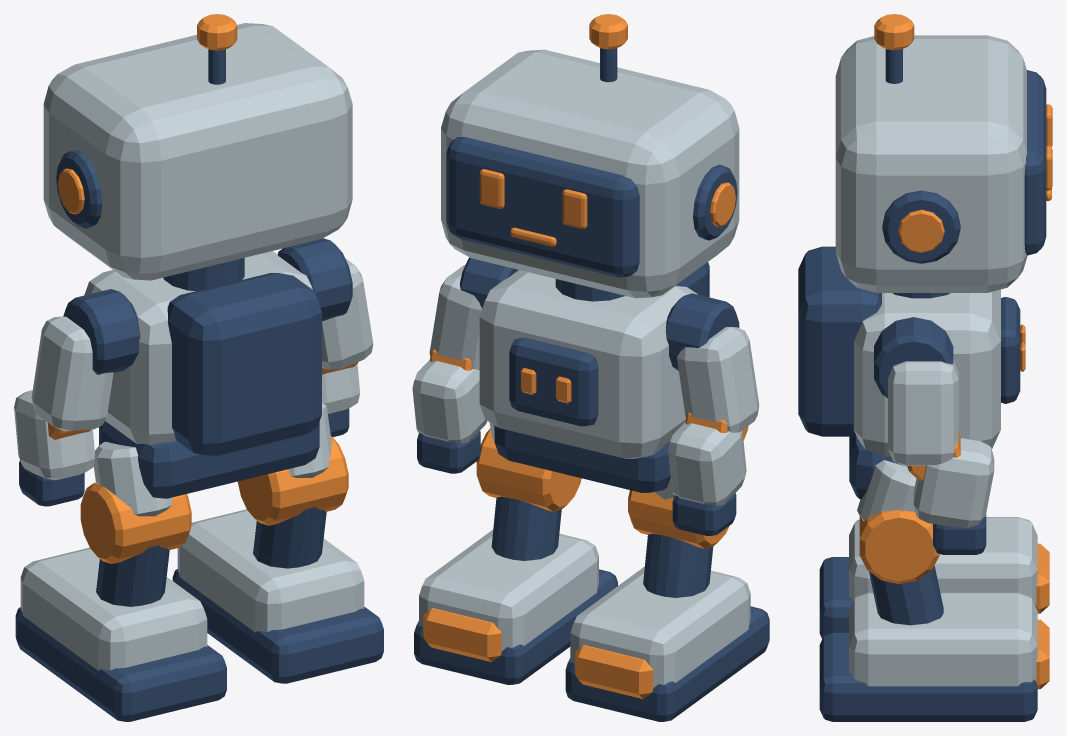
The model's file is guide_robot.glb.
3 renders of one model, left to right at view 1: azimuth 30°, elevation 25°; view 2: azimuth 150°, elevation 25°; view 3: azimuth 270°, elevation 25°, orthographic. The views are drawn at different scales.
Parts seen in each view (by area): view 1: guide_robot; view 2: guide_robot; view 3: guide_robot.
Part boxes in pixels (x1=…): guide_robot: x1=14, y1=14, x2=383, y2=721; guide_robot: x1=412, y1=14, x2=769, y2=721; guide_robot: x1=798, y1=14, x2=1052, y2=721.
Bounding box in the file's own units: 0.7551 × 1.46 × 0.5245.
